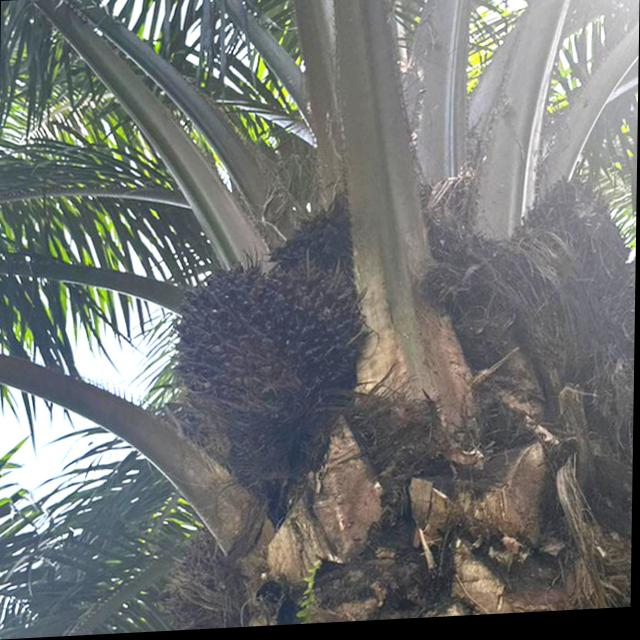ripe: (151, 232, 382, 459)
